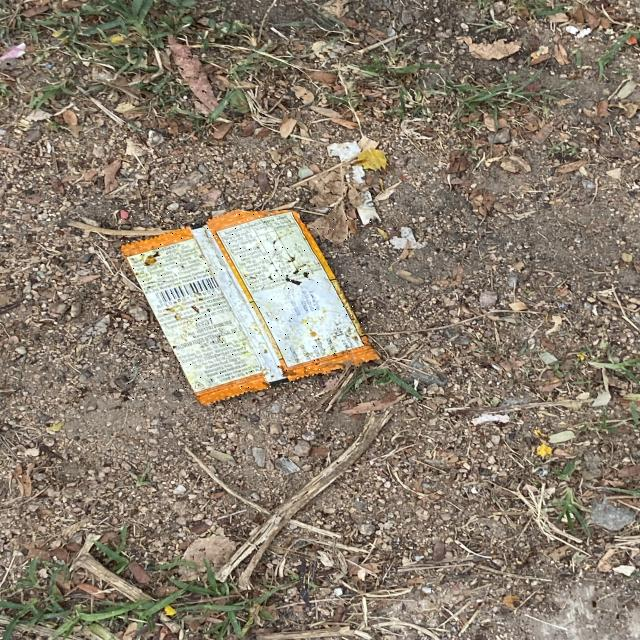wrapper: (121, 211, 377, 405)
